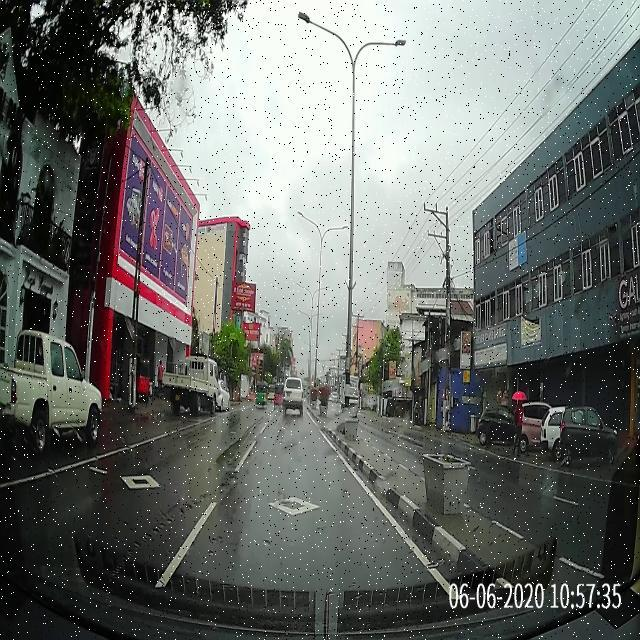diamond: (201, 488, 396, 522)
